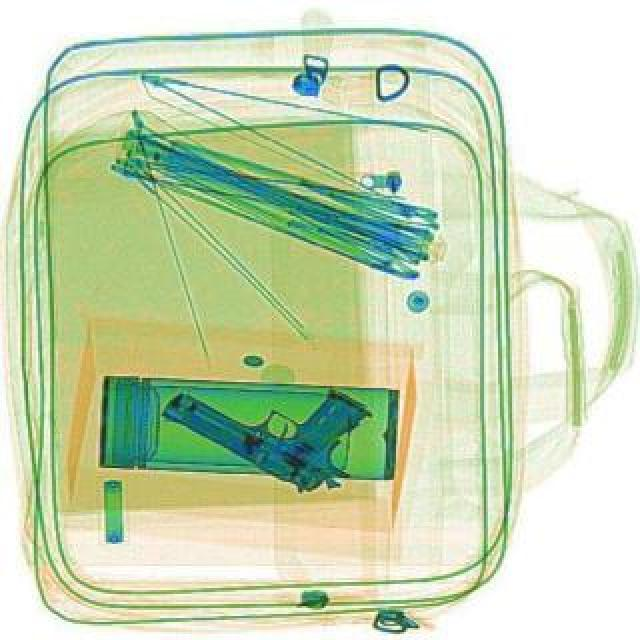gun: (154, 322, 384, 506)
